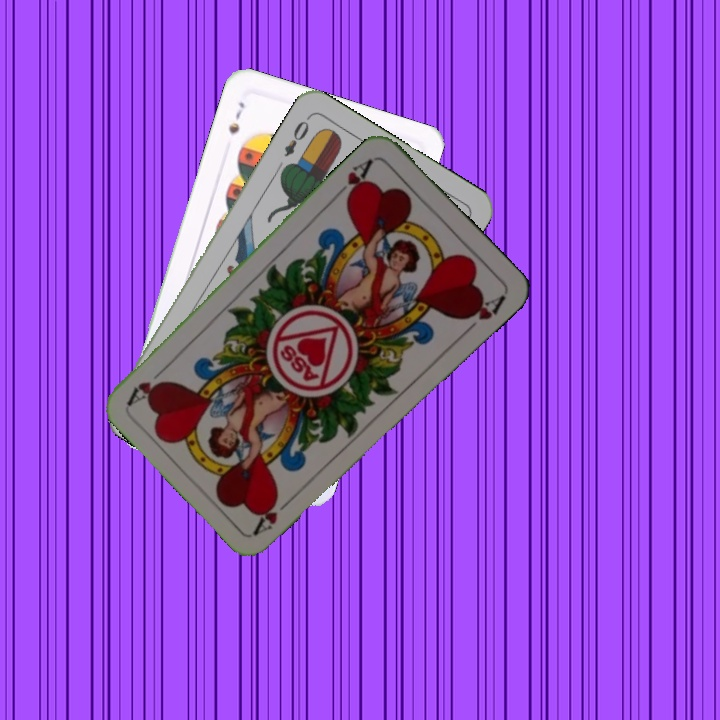EO: (280, 112, 313, 160)
HA: (331, 154, 376, 205), (250, 491, 298, 537)
S7: (224, 97, 247, 137)
